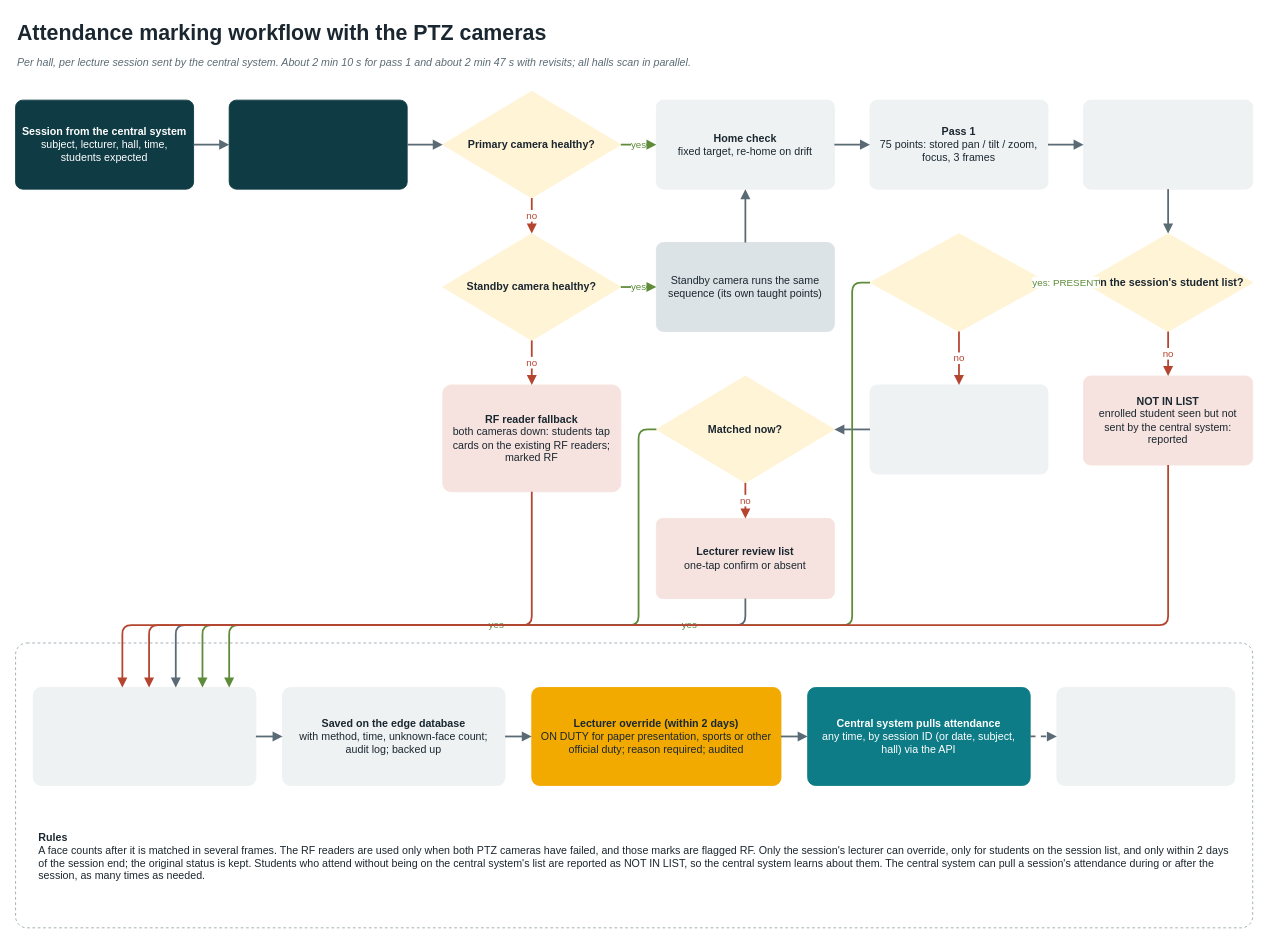
This 1268x943 diagram has some shape labels left out. Here are the shapes that lost their labels. From the top down, the box of each, then its label:
(228, 99, 407, 189): Start at the session time or the lecturer's Scan button (no tone)
(1083, 99, 1253, 189): Recognise on GPU detect, quality, match to face database
(869, 233, 1048, 332): All expected students matched?
(869, 384, 1048, 474): Revisit pass tighter zoom (2 students), retry after 20 to 30 s
(32, 687, 256, 785): Session result PRESENT (face or RF), ABSENT (not seen), NOT IN LIST
(1056, 687, 1235, 785): Kept on the edge until pulled nothing lost if the network is down
(15, 642, 1253, 928): Finalise, override and hand over
